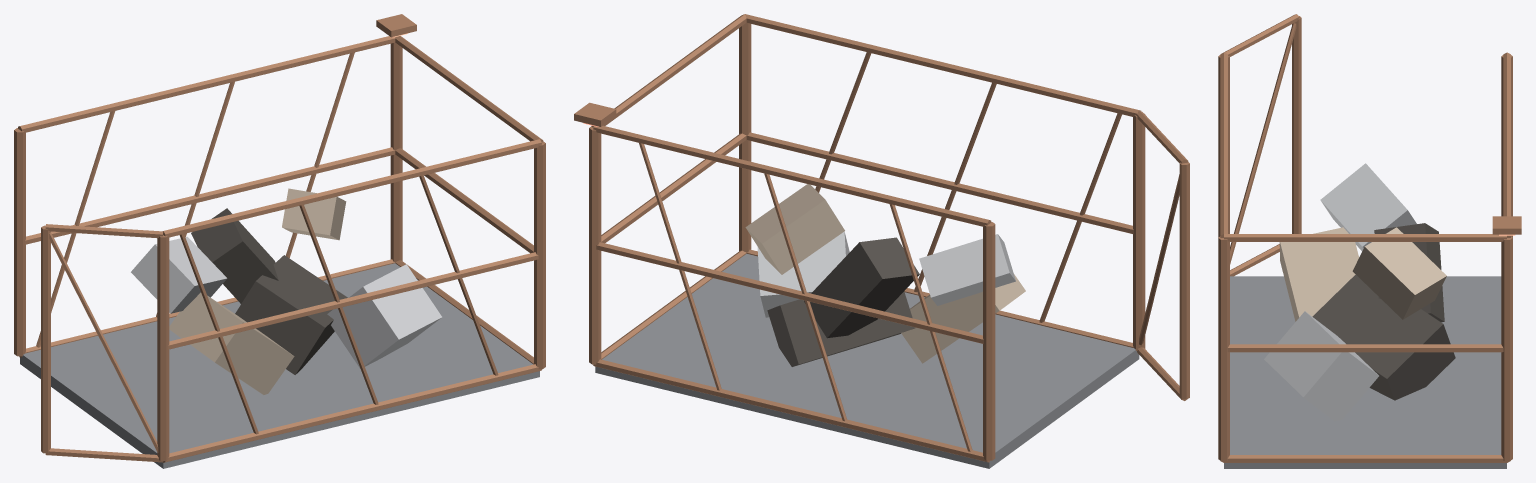
Rendered from scrap_cage.glb.
3 renders of one model, left to right at view 1: azimuth 30°, elevation 25°; view 2: azimuth 150°, elevation 25°; view 3: azimuth 270°, elevation 25°, orthographic. The views are drawn at different scales.
Visible parts, largest first — view 1: cage, floor, junk0, junk2, gate_panel, junk1, junk3, junk5, junk4, hood_shade; view 2: floor, cage, junk3, junk4, gate_panel, junk0, junk5, junk1, junk2, hood_shade; view 3: floor, cage, junk0, junk2, junk4, junk1, gate_panel, junk5, junk3, hood_shade.
Boxes of the visible parts, x1=… form: cage: x1=14, y1=36, x2=545, y2=462; floor: x1=20, y1=263, x2=539, y2=468; junk0: x1=235, y1=255, x2=347, y2=374; junk2: x1=327, y1=264, x2=441, y2=368; gate_panel: x1=41, y1=224, x2=163, y2=462; junk1: x1=169, y1=292, x2=294, y2=394; junk3: x1=191, y1=208, x2=278, y2=303; junk5: x1=131, y1=236, x2=227, y2=313; junk4: x1=282, y1=188, x2=346, y2=240; hood_shade: x1=376, y1=14, x2=416, y2=37; floor: x1=595, y1=253, x2=1139, y2=468; cage: x1=589, y1=14, x2=1145, y2=462; junk3: x1=804, y1=237, x2=919, y2=338; junk4: x1=745, y1=184, x2=844, y2=274; gate_panel: x1=1135, y1=110, x2=1189, y2=400; junk0: x1=767, y1=291, x2=915, y2=366; junk5: x1=919, y1=234, x2=1015, y2=305; junk1: x1=901, y1=274, x2=1025, y2=363; junk2: x1=757, y1=231, x2=849, y2=317; hood_shade: x1=574, y1=102, x2=616, y2=126; floor: x1=1224, y1=276, x2=1506, y2=468; cage: x1=1218, y1=52, x2=1512, y2=462; junk0: x1=1312, y1=274, x2=1455, y2=400; junk2: x1=1264, y1=311, x2=1378, y2=421; junk4: x1=1352, y1=227, x2=1446, y2=319; junk1: x1=1279, y1=227, x2=1358, y2=321; gate_panel: x1=1224, y1=14, x2=1301, y2=276; junk5: x1=1320, y1=163, x2=1416, y2=251; junk3: x1=1374, y1=223, x2=1444, y2=322; hood_shade: x1=1492, y1=216, x2=1521, y2=234.
Size of the model in its own units: 11.07 by 5.7 by 6.22.
